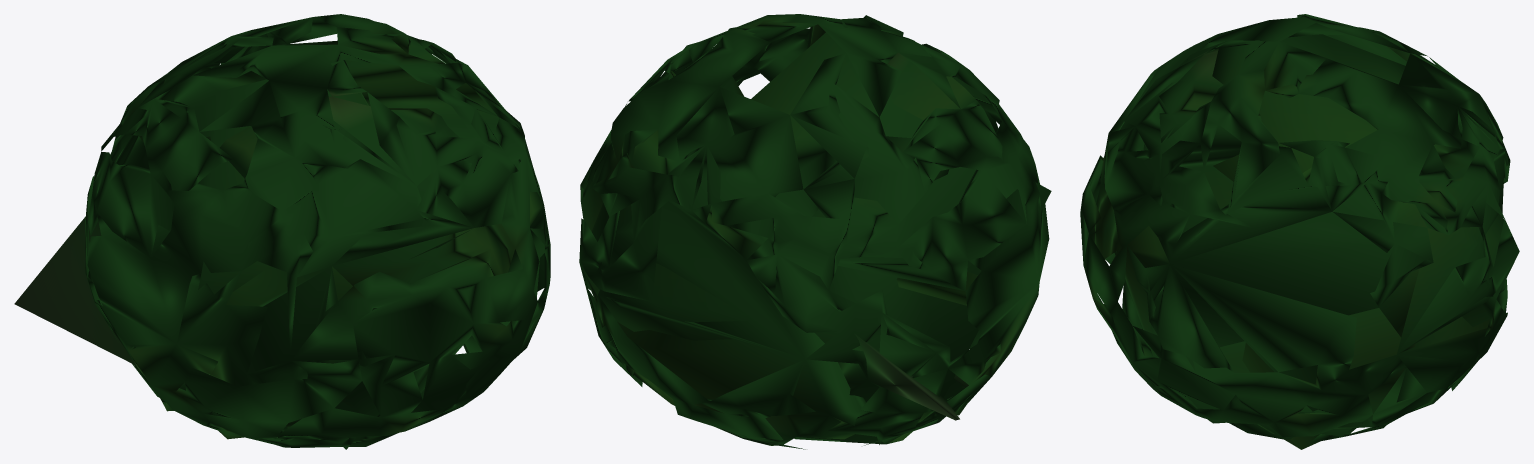
The model's file is gen3d-thorn-bush-lod1.glb.
3 renders of one model, left to right at view 1: azimuth 30°, elevation 25°; view 2: azimuth 150°, elevation 25°; view 3: azimuth 270°, elevation 25°, orthographic. The views are drawn at different scales.
Visible parts, largest first — view 1: part_0; view 2: part_0; view 3: part_0.
Part boxes in pixels (left/top/right/bottom): part_0: left=14, top=14, right=550, bottom=449; part_0: left=579, top=14, right=1051, bottom=449; part_0: left=1080, top=14, right=1519, bottom=449.
Bounding box in the file's own units: 1.15 × 0.9886 × 1.05.
